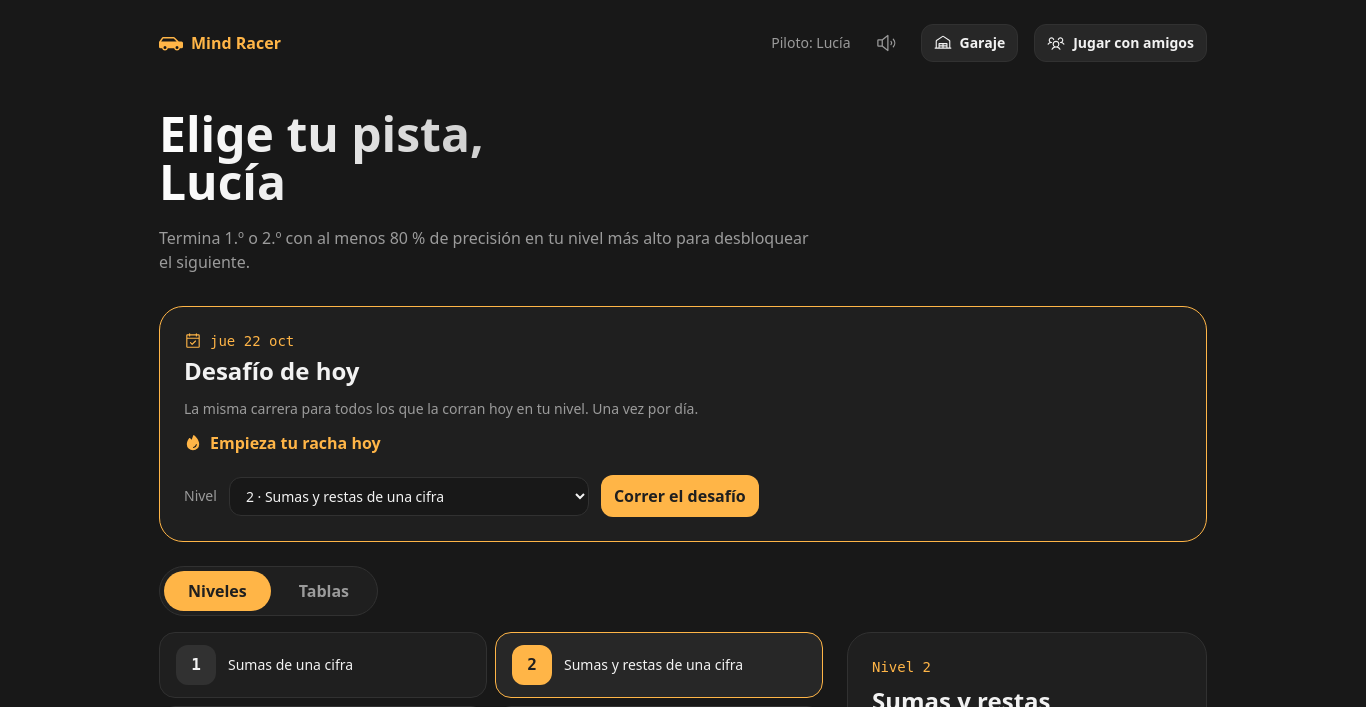
Test: Jugar con amigos: crear y unirse › error del servidor room-not-found: "No encontramos esa sala" y sigue en la pantalla para unirse
Click the button "Jugar con amigos" at (1121, 43), box [1034,24,1207,62]
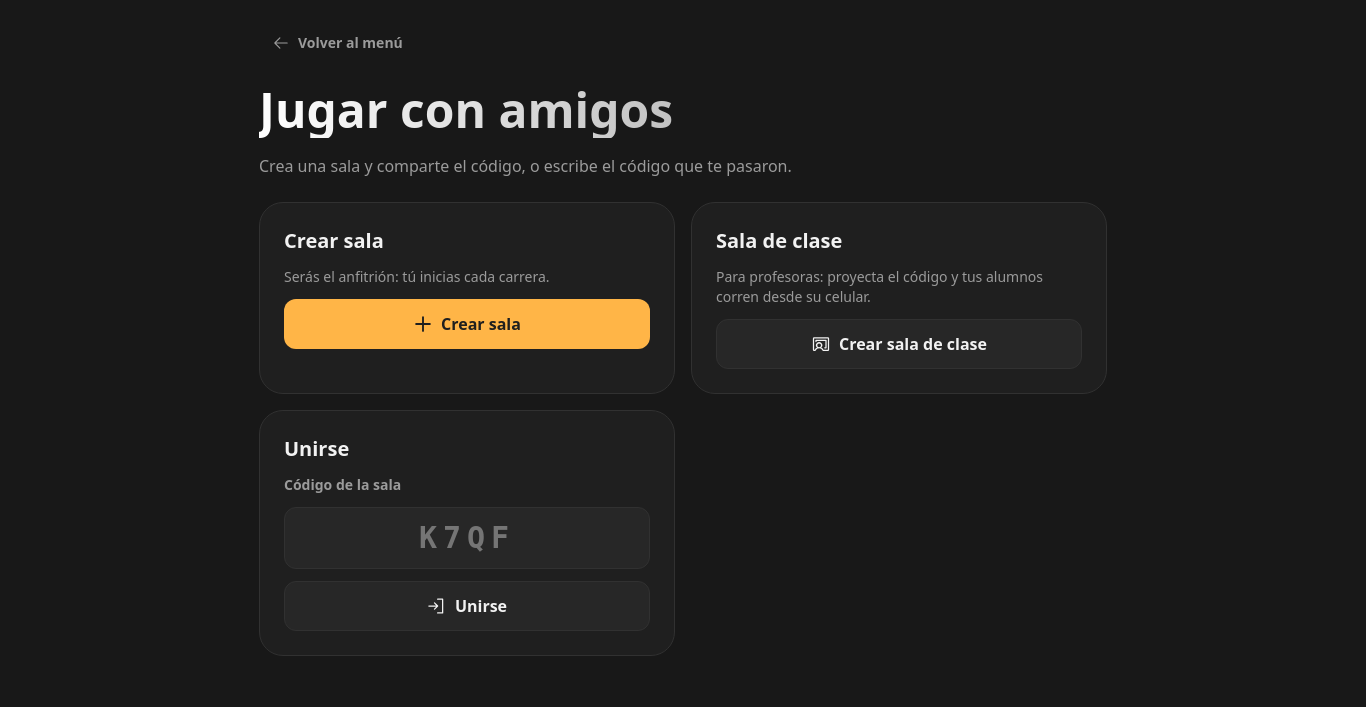
Type "ZZZZ" into the field labelled "Código de la sala" at (467, 538), box [284,507,650,569]
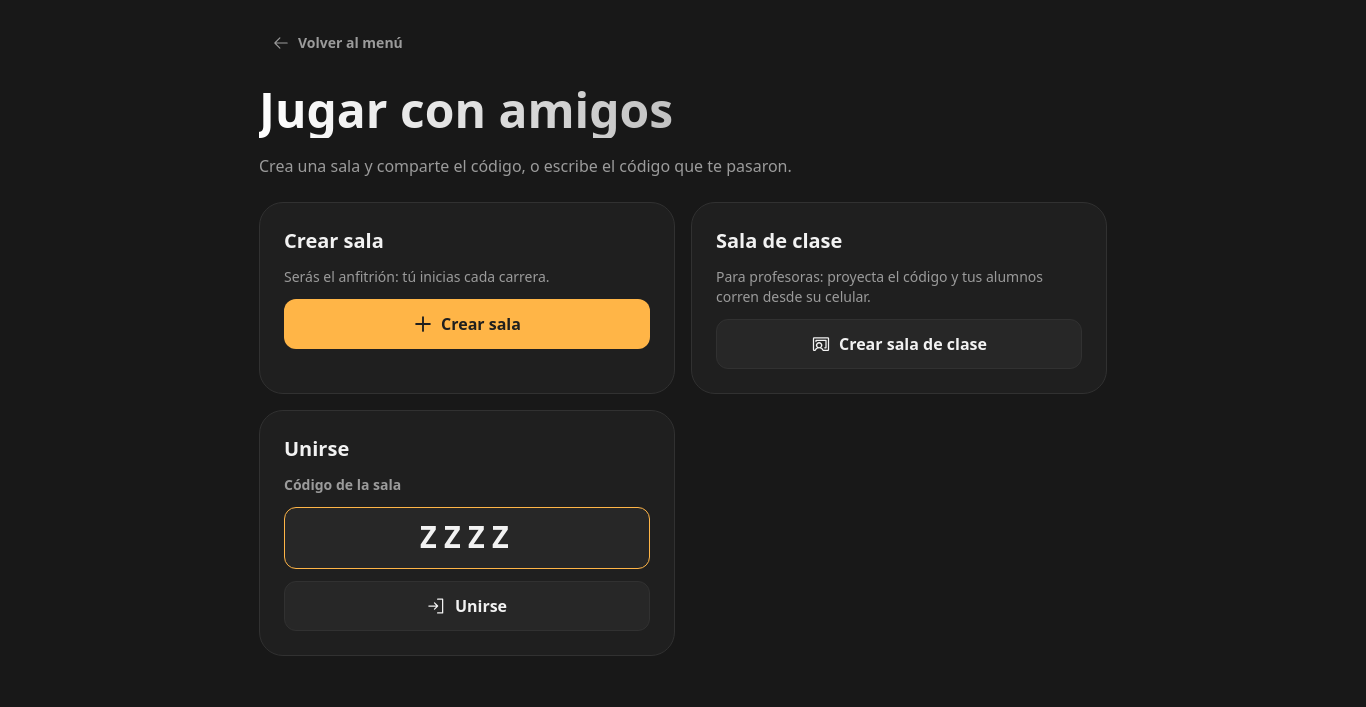
Click the button "Unirse" at (467, 606), box [284,581,650,631]
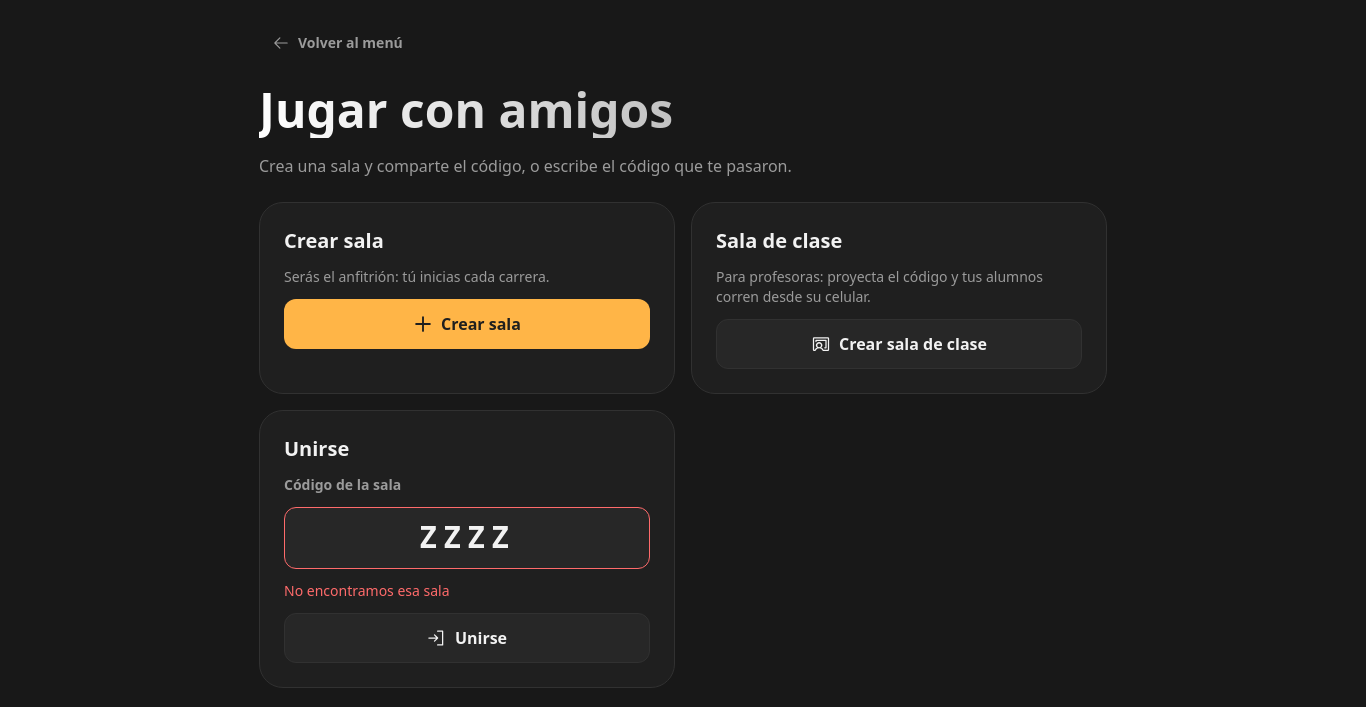
Result: the message reads "No encontramos esa sala" at [284,581,450,600]
